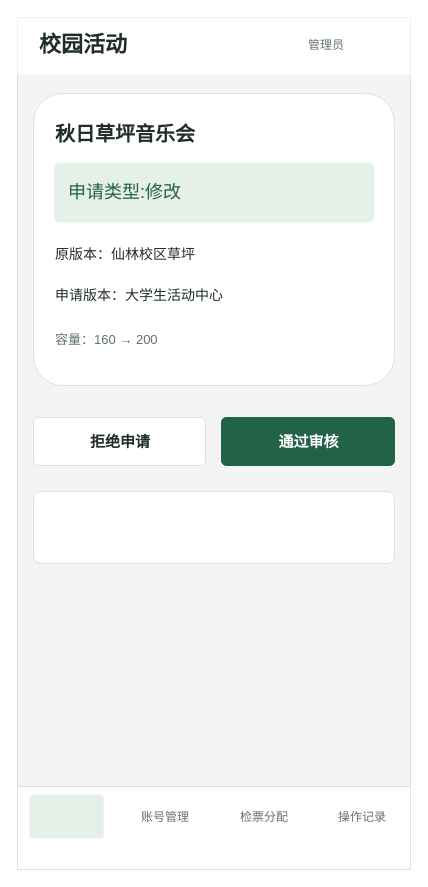
This 428x887 diagram has some shape labels left out. Here are the shapes that lost their labels. From the top down, the centre of each, then its label:
At [213,527]: "填写审核意见".
At [66,816]: "活动审核".
